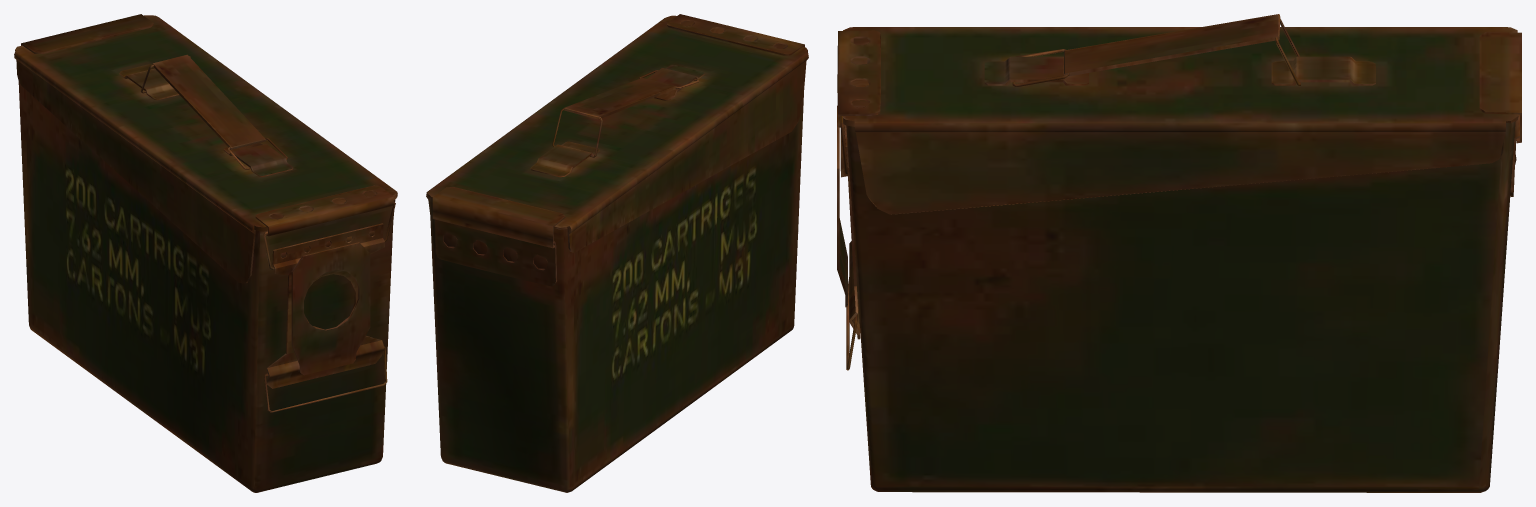
Rendered from ammo_box.glb.
The picture shows the model from 3 angles, left to right: view 1: azimuth 30°, elevation 25°; view 2: azimuth 150°, elevation 25°; view 3: azimuth 270°, elevation 25°; orthographic projection. The views are drawn at different scales.
Parts seen in each view (by area): view 1: handle_ring_b; view 2: handle_ring_b; view 3: handle_ring_b.
Part boxes in pixels (x1,y1,x2,y2): handle_ring_b: (14, 14, 397, 492); handle_ring_b: (426, 14, 808, 492); handle_ring_b: (837, 14, 1521, 492).
Bounding box in the file's own units: 0.0864 × 0.1773 × 0.2576.
1 material, 1 textured.
